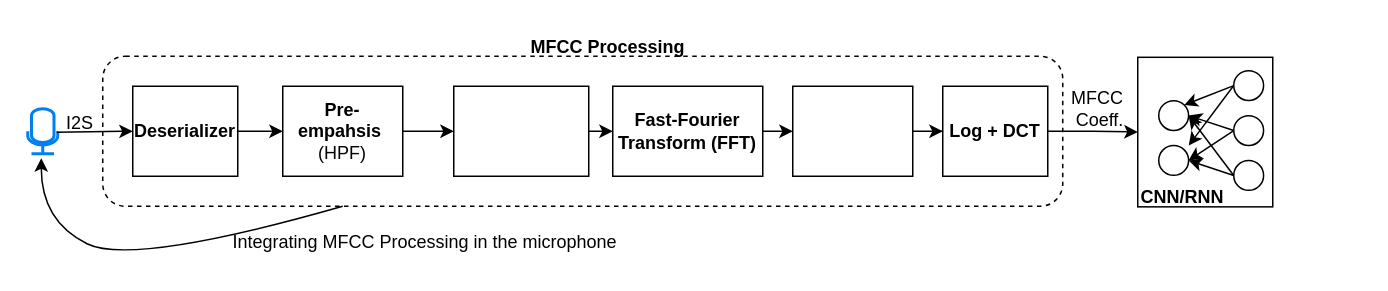
Image size: 1388x291. Some labels were removed from this diagram. Each missing label, with the centre of its shape:
Mel Filtering: (x=852, y=130)
Windowing (Hanning): (x=520, y=130)
